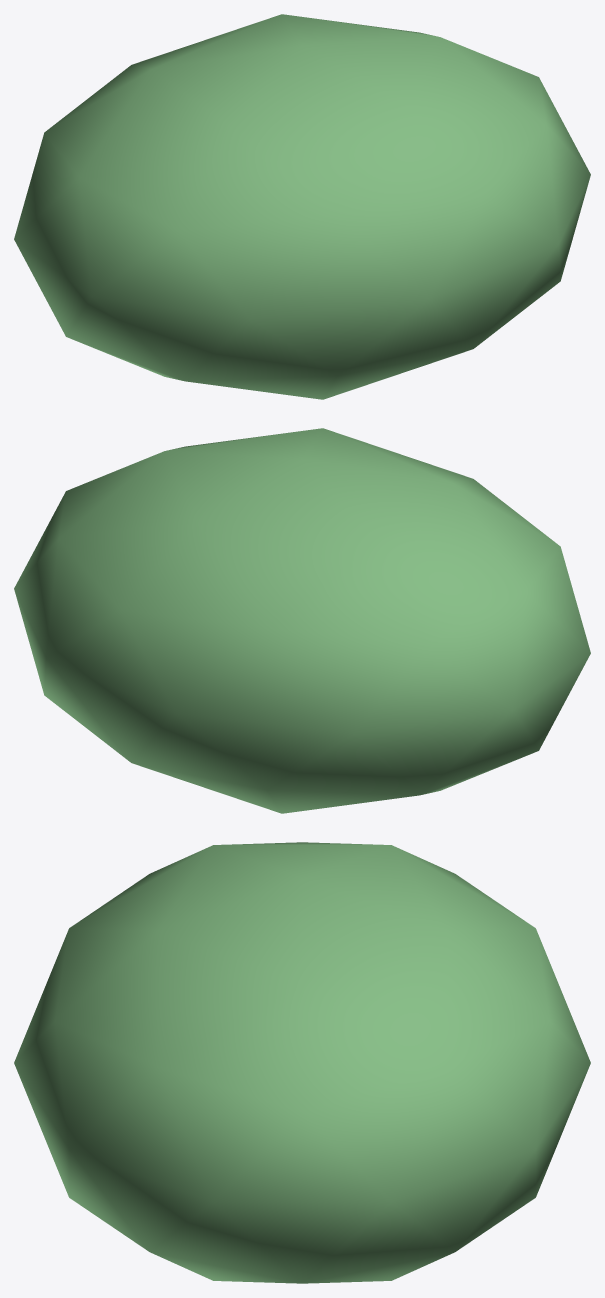
File: bush.glb
3 renders of one model, top to bottom at view 1: azimuth 30°, elevation 25°; view 2: azimuth 150°, elevation 25°; view 3: azimuth 270°, elevation 25°, orthographic. The views are drawn at different scales.
Visible parts, largest first — view 1: Bush; view 2: Bush; view 3: Bush.
Part boxes in pixels (left/top/right/bottom): Bush: left=14, top=14, right=590, bottom=399; Bush: left=14, top=428, right=590, bottom=813; Bush: left=14, top=842, right=590, bottom=1283.
Size of the model in its own units: 1.08 by 0.6686 by 0.9478.
